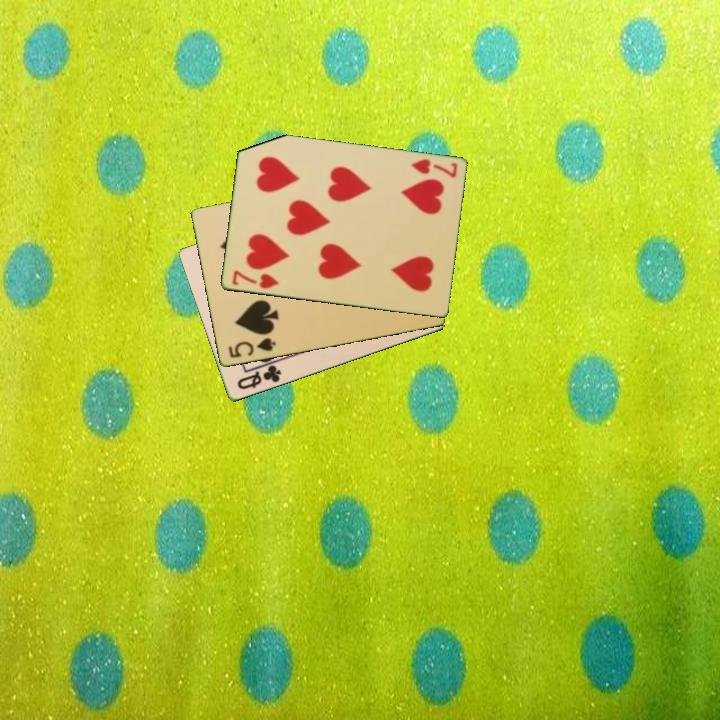5s: (225, 334, 278, 361)
7h: (407, 156, 460, 181), (229, 267, 281, 292)
Qc: (233, 358, 284, 393)
